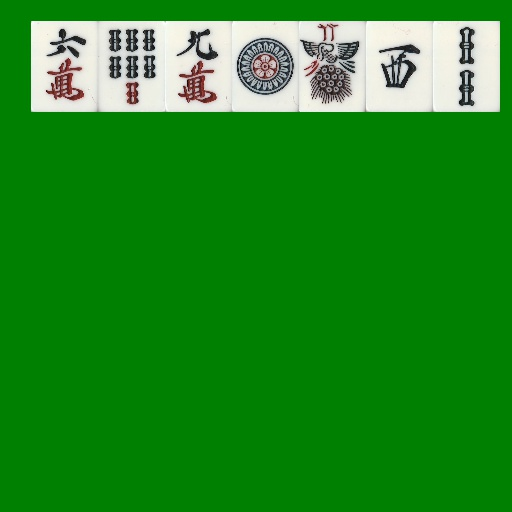1p: (232, 21, 299, 112)
1s: (299, 21, 366, 112)
2s: (433, 21, 500, 112)
6m: (31, 21, 98, 112)
7s: (98, 21, 165, 112)
9m: (165, 21, 232, 112)
west: (366, 21, 433, 112)
